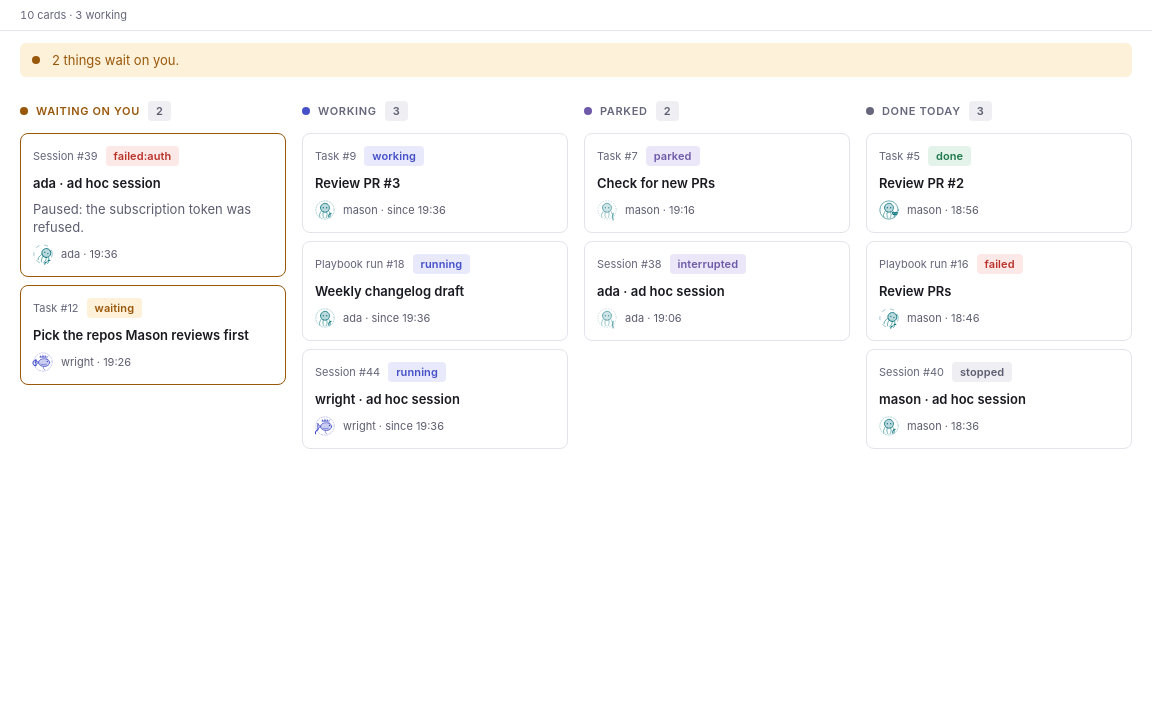
Test: the open card › shows the mockup's 'no log yet' note for a card with no session
Click the button with aria-label "Task 12: Pick the repos Mason reviews first, waiting": (153,335) [20,285,286,385]
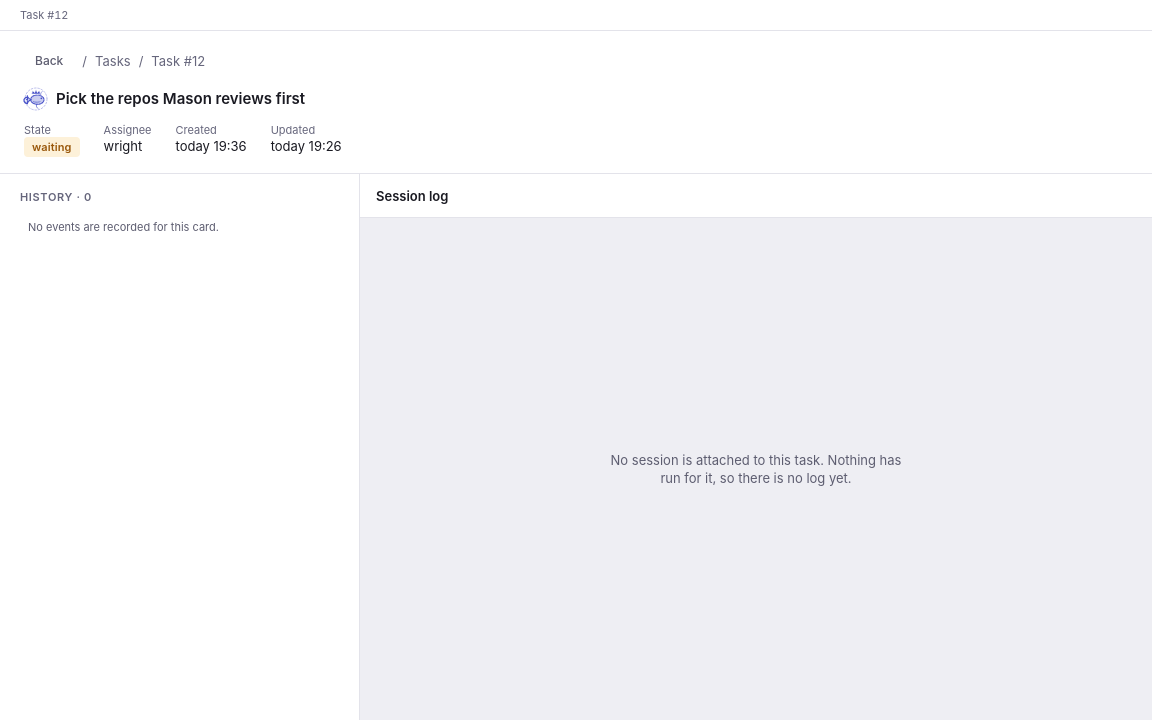
Expected: the element with test id "task-detail" is shown
Expected: the element with test id "task-nolog" shows "No session is attached to this task. Nothing has run for it, so there is no log yet.", [360,174,1151,719]
